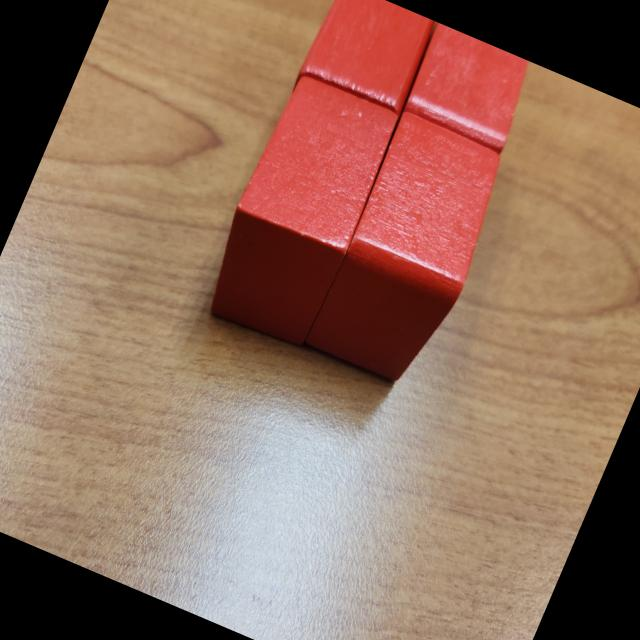red: (302, 107, 520, 397), (191, 70, 402, 358), (283, 0, 439, 138), (398, 22, 538, 154)
